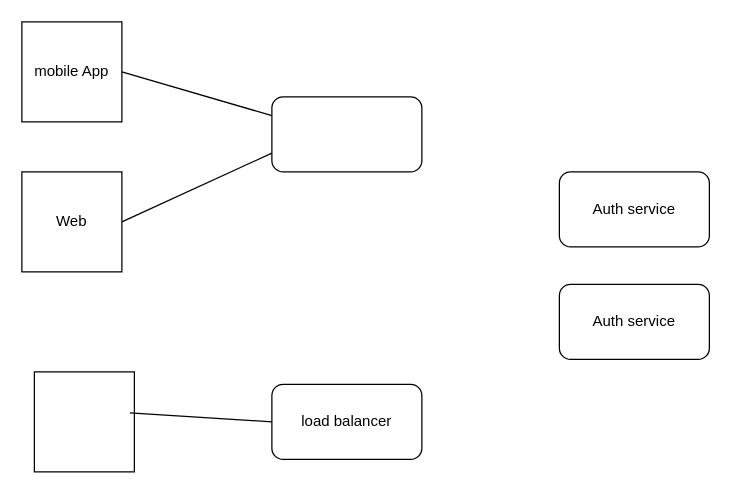
This 731x494 diagram has some shape labels left out. Each missing label, with the centre of its shape:
"frontend" goes at [83,421].
"server" goes at [346,134].
